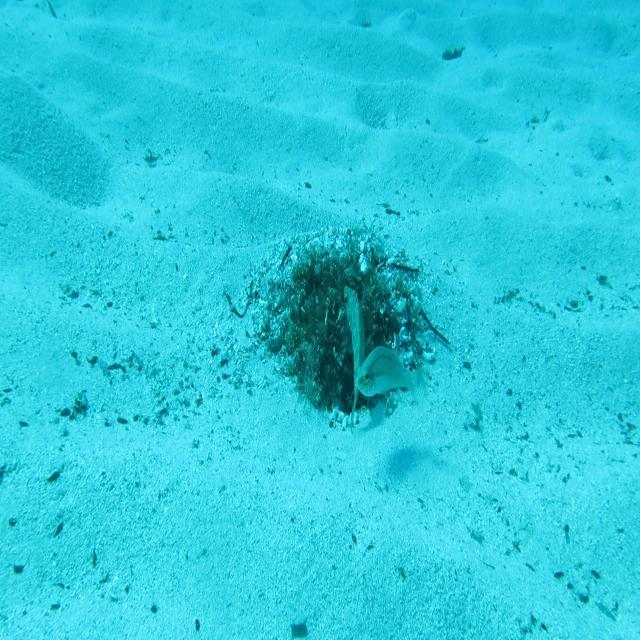FAN: (341, 281, 367, 437)
core_nest: (316, 271, 356, 300)
female: (353, 344, 430, 416)
nest: (242, 210, 440, 441)
vegetation: (441, 44, 466, 62)
